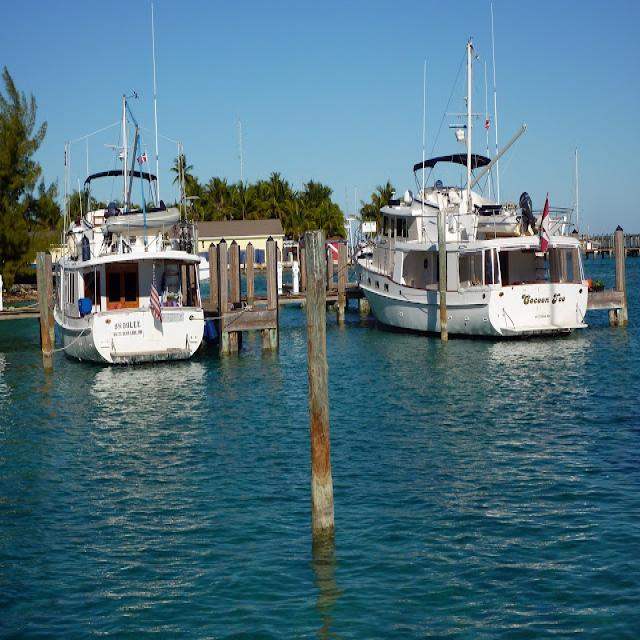houseboat: (357, 173, 591, 338), (50, 149, 204, 362)
